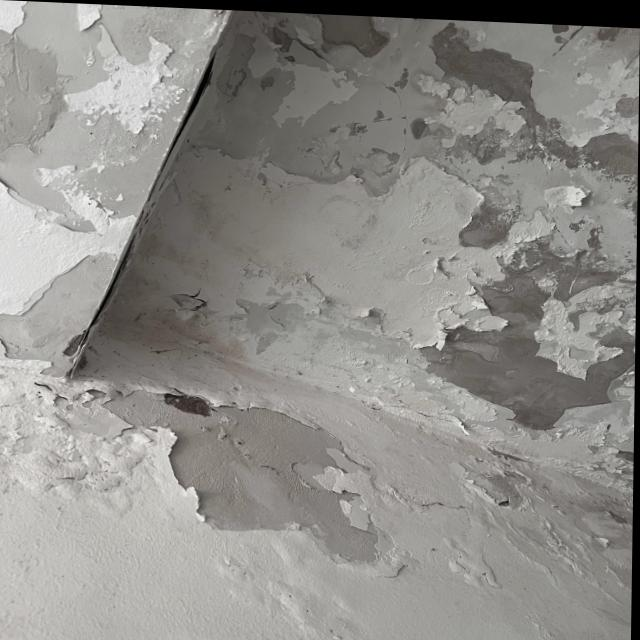spalling: (204, 37, 524, 242), (86, 382, 419, 569), (403, 224, 635, 432), (2, 9, 221, 224), (423, 25, 639, 214), (3, 250, 123, 397)
